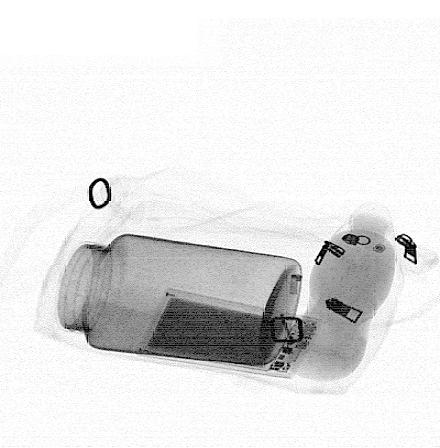Powerbank: (136, 287, 322, 380)
